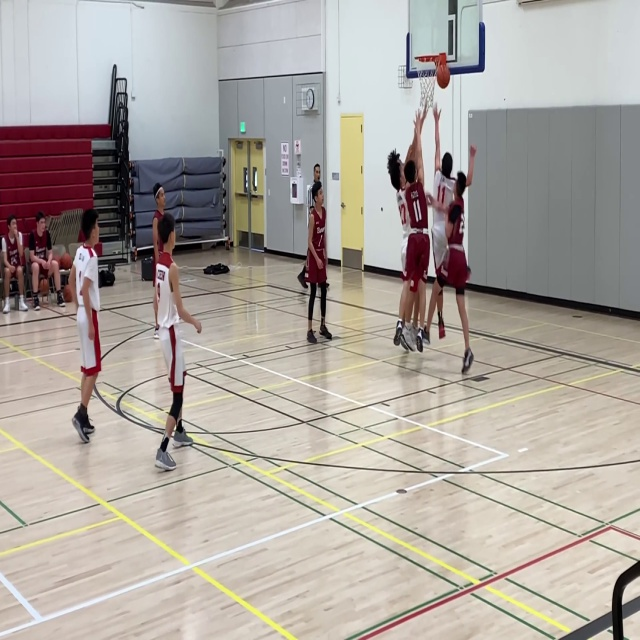Basketball: (436, 63, 450, 89), (59, 253, 73, 270), (62, 284, 72, 302), (38, 279, 49, 295)
